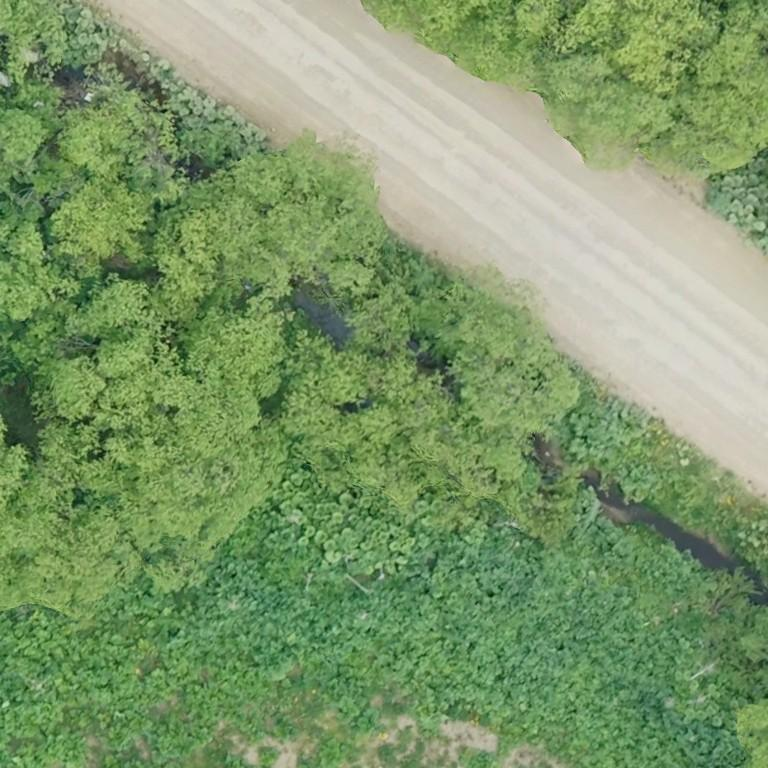hogweed: (163, 529, 747, 767), (0, 621, 186, 767), (571, 401, 649, 463), (578, 488, 636, 568), (643, 550, 695, 600), (618, 467, 657, 499)
